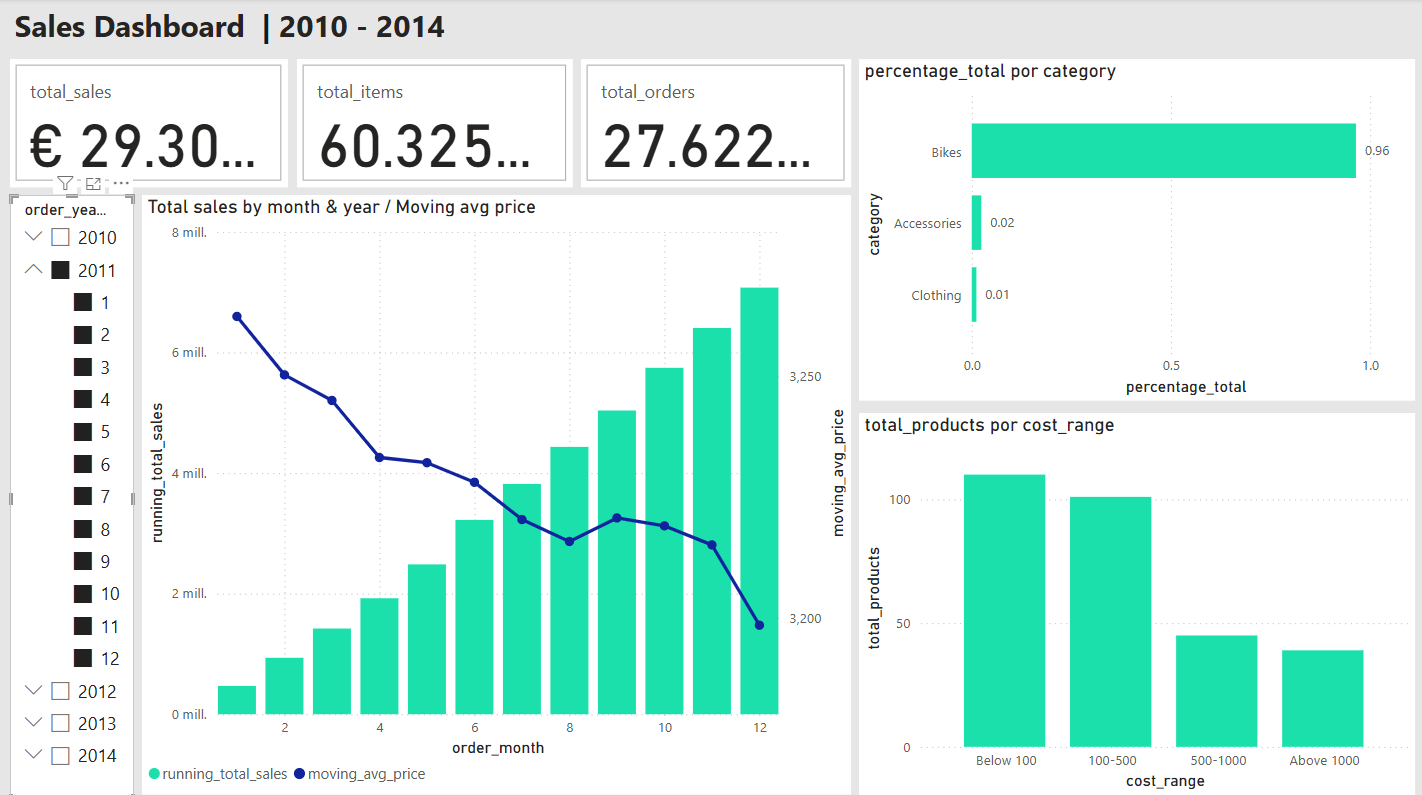

This screenshot's page, from the dashboard's own definition file:
{"tool":"powerbi","page":{"name":"Página 1","canvas":[1280,720],"ordinal":0},"visuals":[{"type":"textbox","box":[9.7,0,410.5,60.3],"z":0},{"type":"cardVisual","fields":{"Data":["Sum(08_customer_report.total_sales)"]},"box":[10.3,53.7,249,114.7],"z":1000},{"type":"cardVisual","fields":{"Data":["Sum(08_customer_report.total_quantity)"]},"box":[267.6,53.7,246.9,114.7],"z":2000},{"type":"cardVisual","fields":{"Data":["Sum(08_customer_report.total_orders)"]},"box":[521.7,53.7,241.7,114.7],"z":3000},{"type":"lineStackedColumnComboChart","title":"Total sales by month & year / Moving avg price","fields":{"Category":["02_cumulative_analysis.order_month"],"Y":["Sum(02_cumulative_analysis.running_total_sales)"],"Y2":["Sum(02_cumulative_analysis.moving_avg_price)"]},"box":[129,175.5,634.9,537.3],"z":4000},{"type":"slicer","fields":{"Values":["02_cumulative_analysis.order_year","02_cumulative_analysis.order_month"]},"box":[10.7,175.5,111,544.5],"z":6000},{"type":"barChart","fields":{"Category":["04_part_to_whole.category"],"Y":["Sum(04_part_to_whole.percentage_total)"]},"box":[770.7,53.7,497.9,305.8],"z":7000},{"type":"columnChart","fields":{"Category":["05_data_segmentation.cost_range"],"Y":["Sum(05_data_segmentation.total_products)"]},"box":[770.7,370.9,497.9,342],"z":8000}]}

Visuals, with their boxes in screenshot pixels (x1, y1, x2, y2), scaled from the page's 1280x720 canvas onto the 1422x795 screenshot:
textbox: 11/0/467/67
cardVisual - Sum(08_customer_report.total_sales): 11/59/288/186
cardVisual - Sum(08_customer_report.total_quantity): 297/59/572/186
cardVisual - Sum(08_customer_report.total_orders): 580/59/848/186
"Total sales by month & year / Moving avg price" lineStackedColumnComboChart: 143/194/849/787
slicer - 02_cumulative_analysis.order_year x 02_cumulative_analysis.order_month: 12/194/135/794
barChart - 04_part_to_whole.category x Sum(04_part_to_whole.percentage_total): 856/59/1409/397
columnChart - 05_data_segmentation.cost_range x Sum(05_data_segmentation.total_products): 856/410/1409/787
